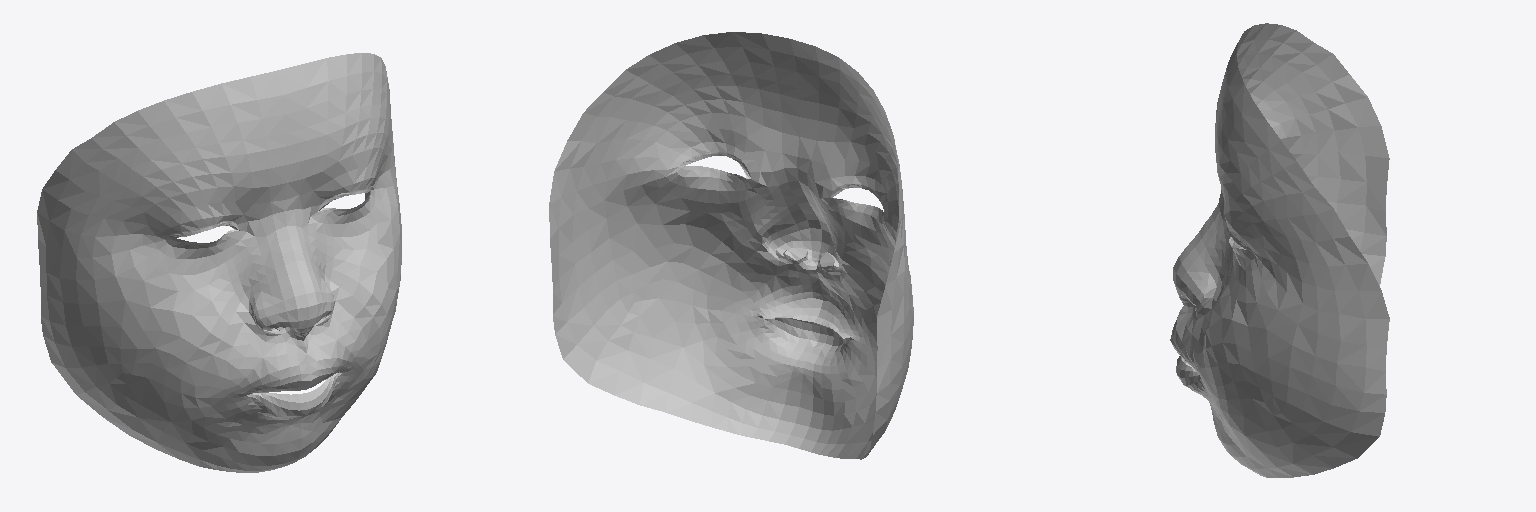
Rendered from cheekPuff.obj.
The picture shows the model from 3 angles: view 1: azimuth 30°, elevation 25°; view 2: azimuth 150°, elevation 25°; view 3: azimuth 270°, elevation 25°; orthographic projection.
Parts seen in each view (by area): view 1: default; view 2: default; view 3: default.
Part boxes in pixels (left/top/right/bottom): default: left=37, top=53, right=401, bottom=472; default: left=549, top=32, right=913, bottom=459; default: left=1170, top=23, right=1389, bottom=477.
Bounding box in the file's own units: 0.1624 × 0.1843 × 0.0911.